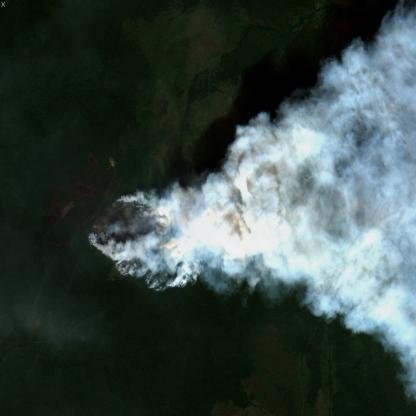fire: (83, 189, 193, 297), (319, 170, 363, 217), (372, 128, 405, 155)
